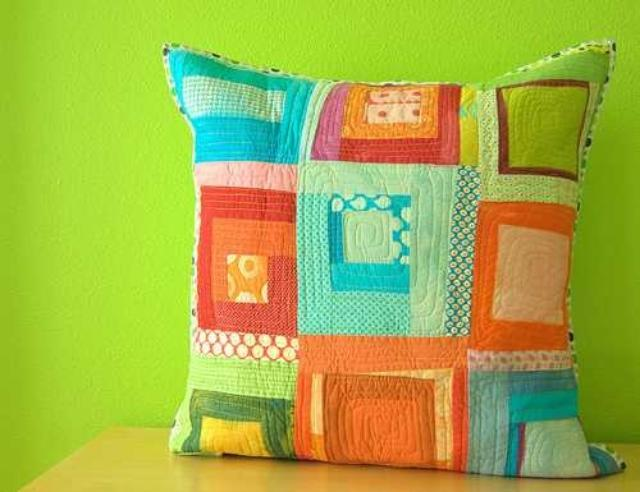pillow: (160, 38, 624, 479)
